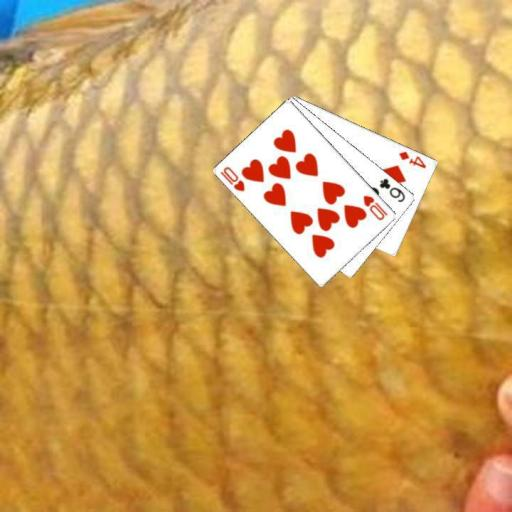card-corner: (360, 192, 389, 222), (376, 175, 407, 203), (218, 163, 246, 193), (396, 148, 428, 170)
